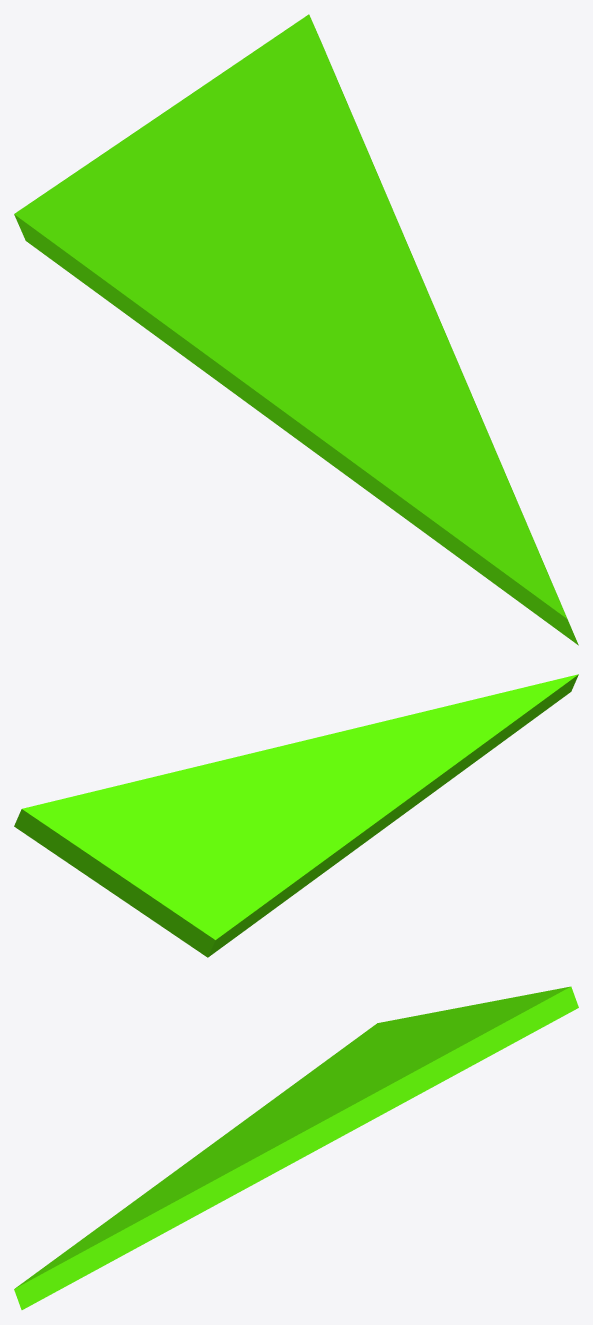
File: nrw_planks_bank_trans_384_COL_mirror.fbx
3 renders of one model, top to bottom at view 1: azimuth 30°, elevation 25°; view 2: azimuth 150°, elevation 25°; view 3: azimuth 330°, elevation 25°, orthographic. The views are drawn at different scales.
Visible parts, largest first — view 1: nrw_planks_bank_trans_384_COL_mirror; view 2: nrw_planks_bank_trans_384_COL_mirror; view 3: nrw_planks_bank_trans_384_COL_mirror.
Part boxes in pixels (x1,y1,x2,y2): nrw_planks_bank_trans_384_COL_mirror: (14,14,578,645); nrw_planks_bank_trans_384_COL_mirror: (14,674,578,957); nrw_planks_bank_trans_384_COL_mirror: (14,986,578,1309).
Bounding box in the file's own units: 123 × 60.33 × 384.
